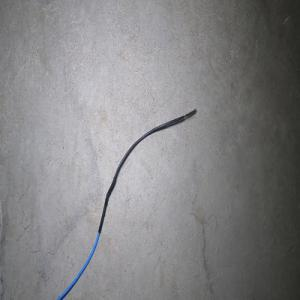Wire: (56, 107, 196, 300)
